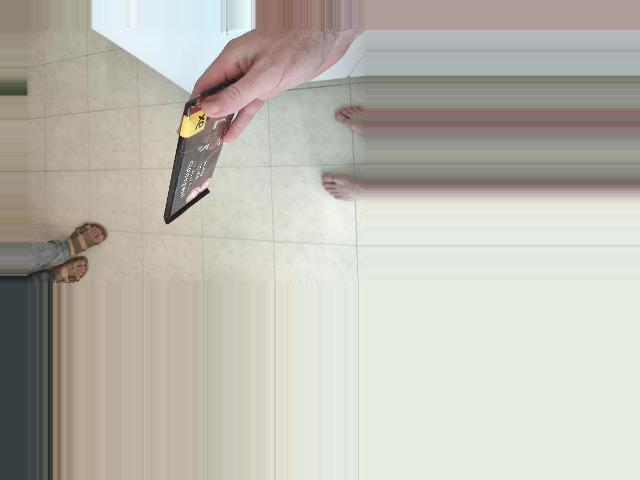chocolate: (81, 161, 238, 247)
